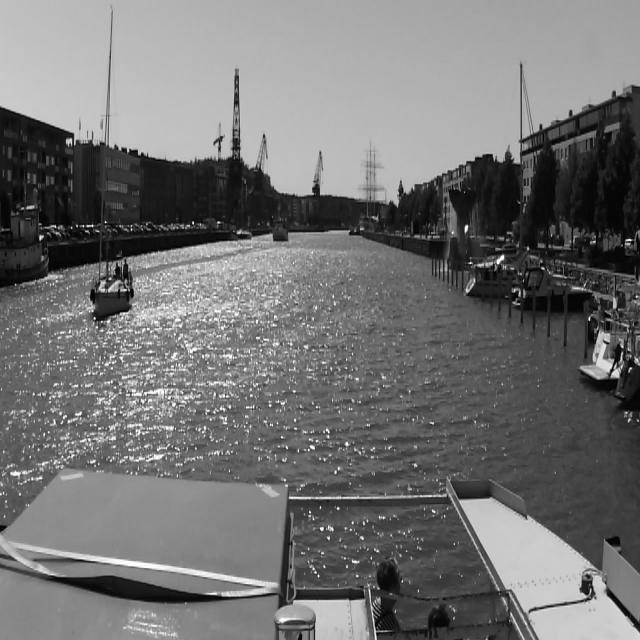ship: (464, 58, 528, 300), (89, 5, 135, 318), (0, 188, 50, 286), (351, 126, 392, 242), (512, 268, 594, 310), (237, 177, 252, 239), (272, 216, 290, 243)
